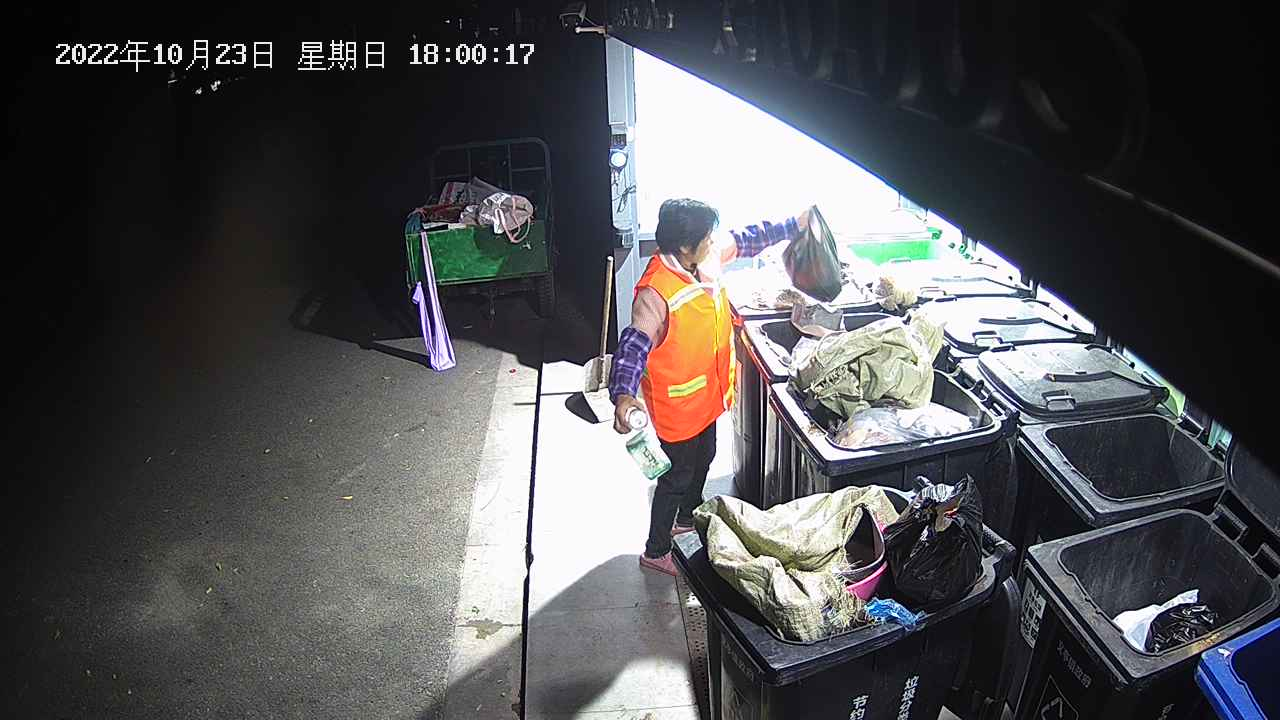garbage-bag: (781, 202, 844, 304)
suliaozhipin: (619, 403, 673, 482)
worker: (606, 197, 819, 574)
